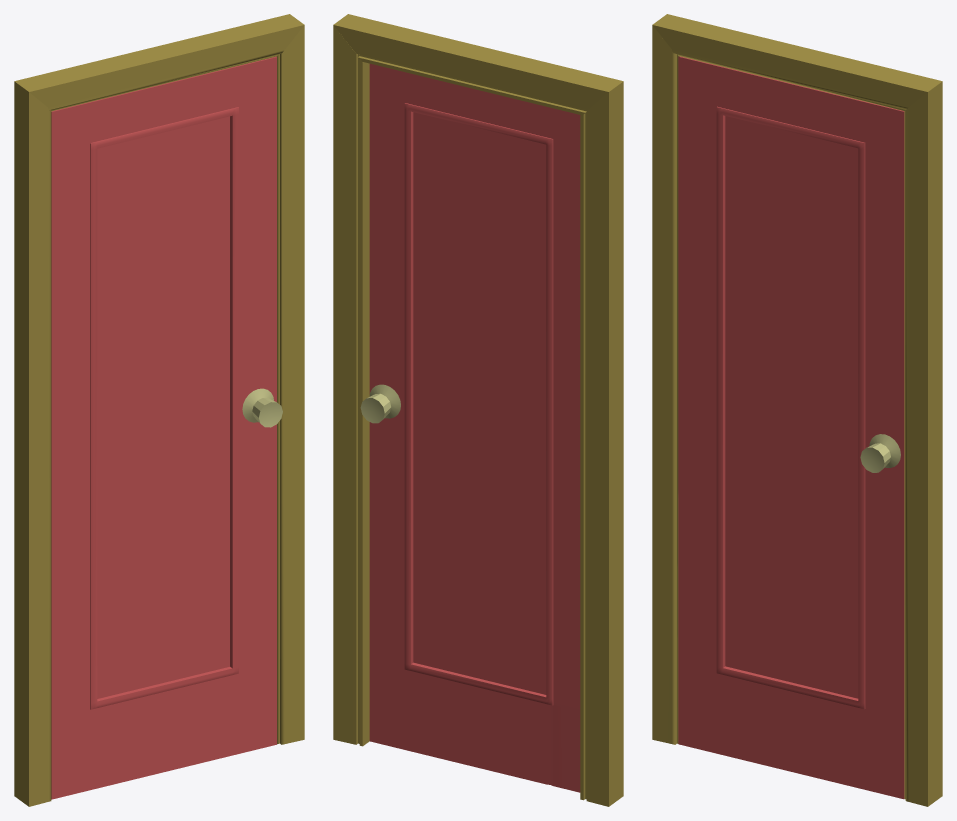
Rendered from Puerta70OpacaIz.fbx.
The picture shows the model from 3 angles, left to right: view 1: azimuth 30°, elevation 25°; view 2: azimuth 150°, elevation 25°; view 3: azimuth 330°, elevation 25°; orthographic projection.
Parts seen in each view (by area): view 1: Puerta, Marco3, Marco1, Marco2, Manilla2; view 2: Puerta, Marco3, Marco1, Marco2, Manilla1; view 3: Puerta, Marco1, Marco3, Marco2, Manilla2.
Boxes of the visible parts, x1=… form: Puerta: x1=51, y1=56, x2=276, y2=799; Marco3: x1=14, y1=81, x2=52, y2=806; Marco1: x1=276, y1=25, x2=304, y2=744; Marco2: x1=14, y1=14, x2=304, y2=111; Manilla2: x1=252, y1=398, x2=282, y2=427; Puerta: x1=369, y1=63, x2=580, y2=792; Marco3: x1=580, y1=81, x2=623, y2=806; Marco1: x1=333, y1=25, x2=369, y2=746; Marco2: x1=333, y1=14, x2=623, y2=114; Manilla1: x1=360, y1=393, x2=391, y2=423; Puerta: x1=678, y1=56, x2=904, y2=799; Marco1: x1=904, y1=81, x2=942, y2=806; Marco3: x1=652, y1=25, x2=679, y2=744; Marco2: x1=652, y1=14, x2=942, y2=110; Manilla2: x1=860, y1=443, x2=890, y2=472.
Bounding box in the file's own units: 8.56 × 21.21 × 1.65.
